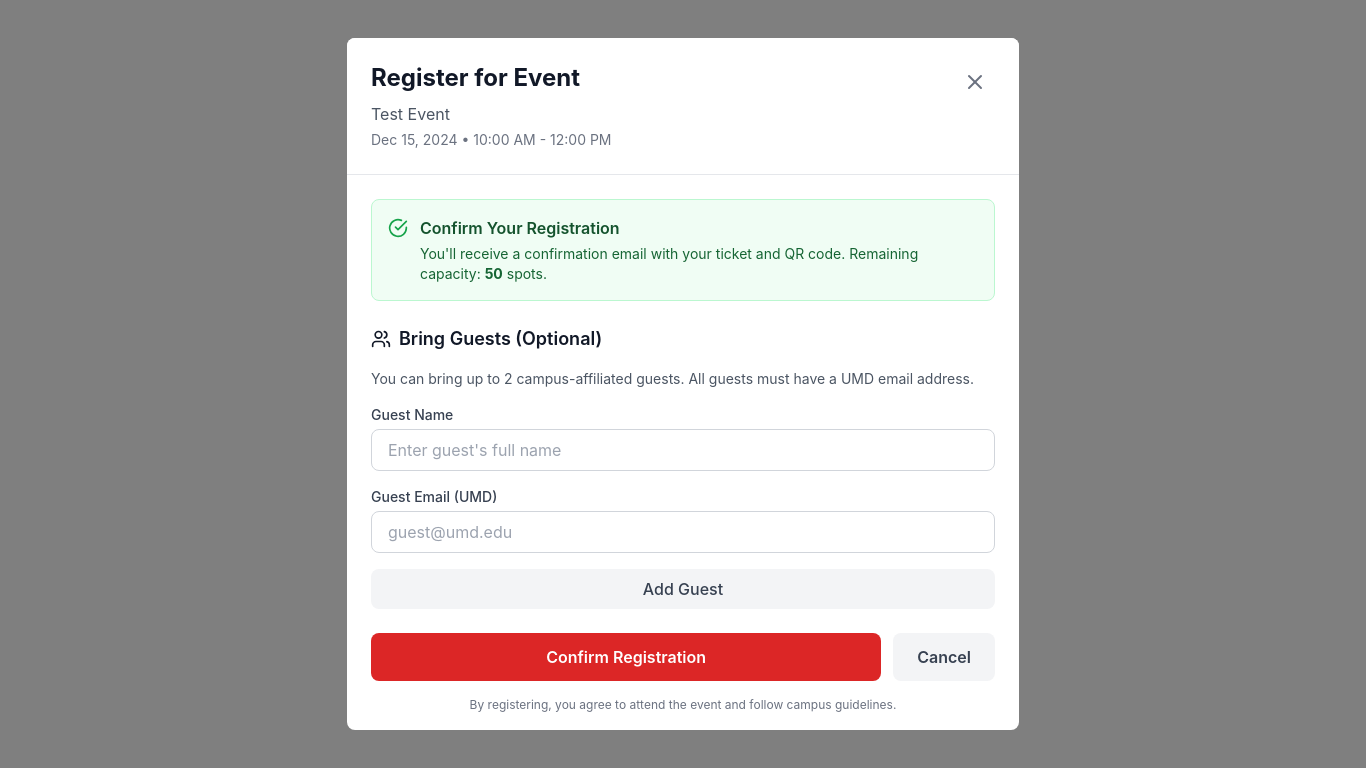
Scenario: RegistrationModal › removes guest when remove button is clicked
Type "John Doe" into the field with placeholder "Enter guest's full name". click: (683, 450)
box: [371,429,995,471]
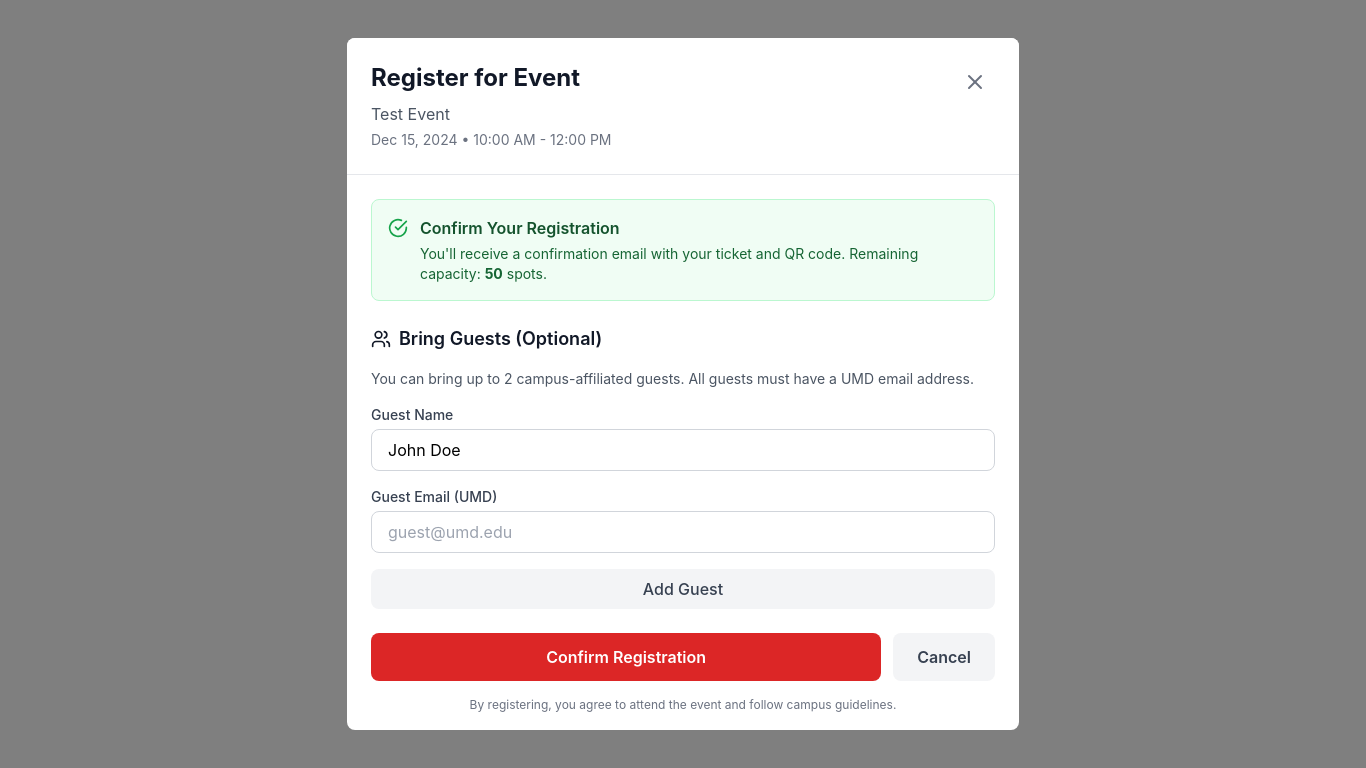
Type "john@umd.edu" into the field with placeholder "guest@umd.edu". click: (683, 532)
box: [371,511,995,553]
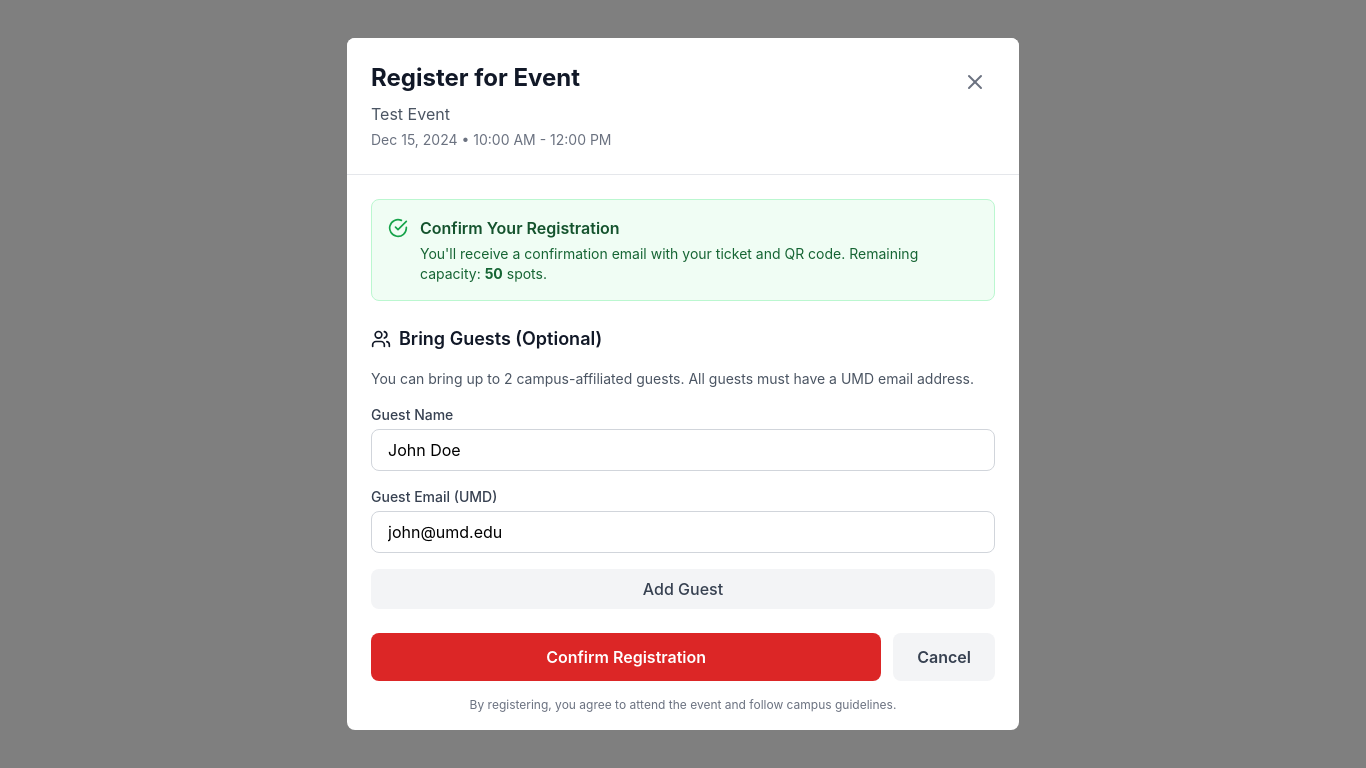
Click the button "Add Guest". click: (683, 589)
box: [371,569,995,609]
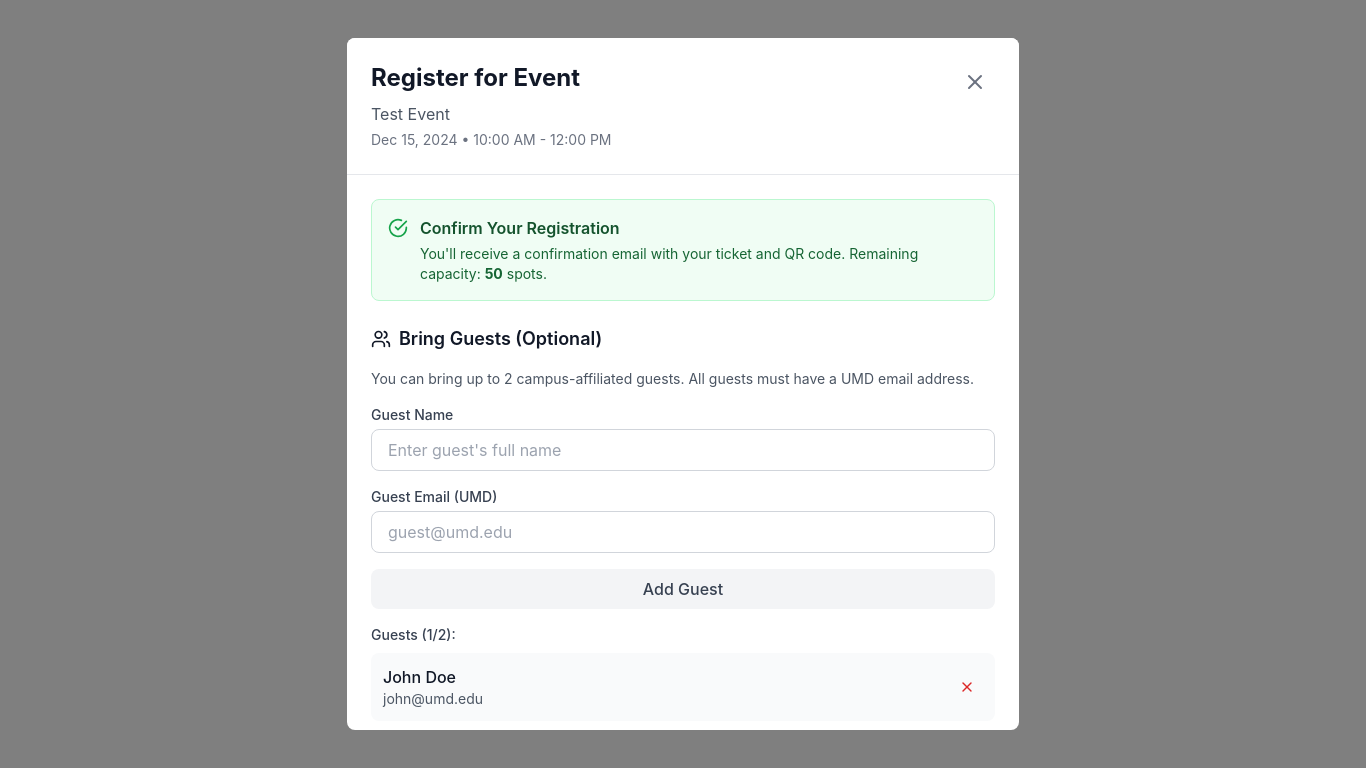
Now the text "John Doe" is shown, box [383,667,456,687]
Click the button named "Remove guest". click: (967, 687)
box: [951,671,983,703]
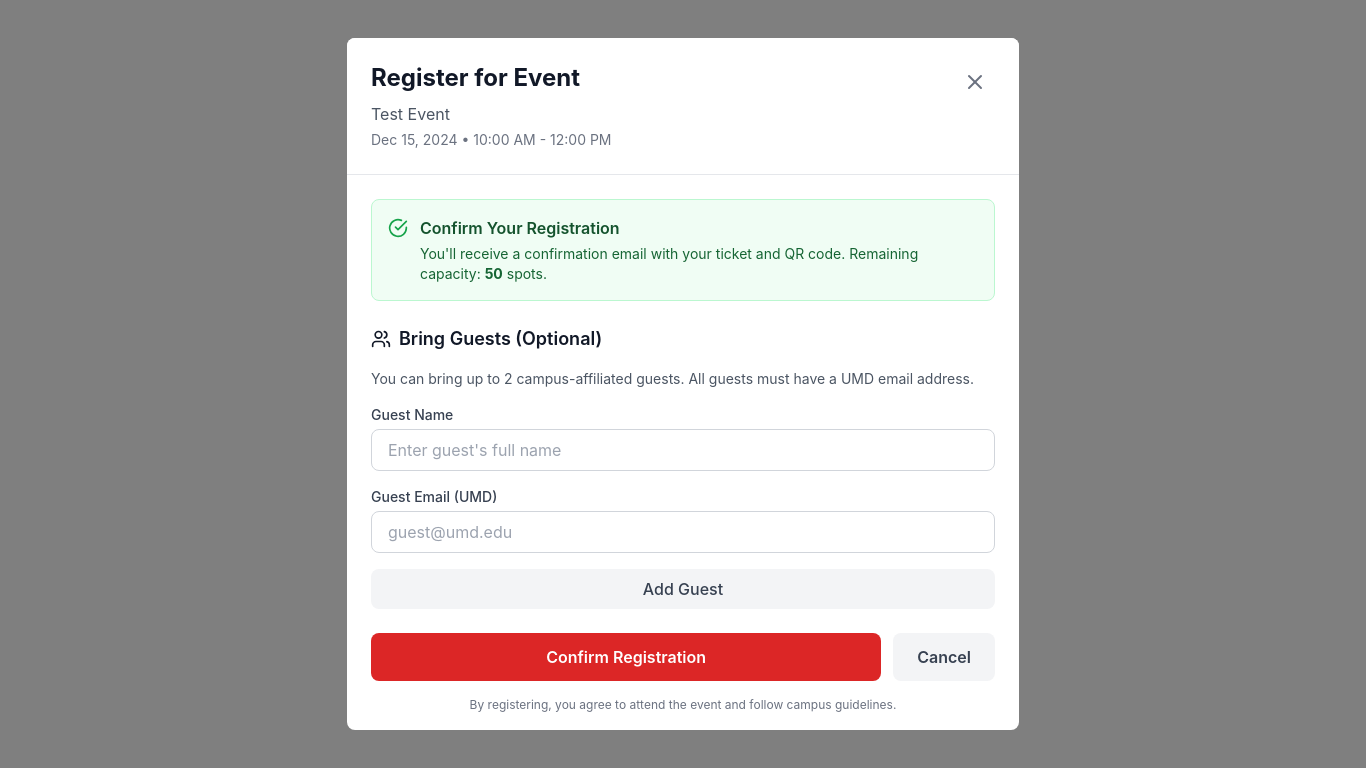
Now the text "John Doe" is gone
